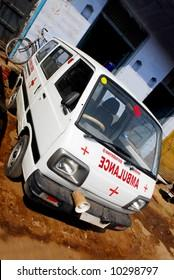ER: (10, 36, 163, 232)
